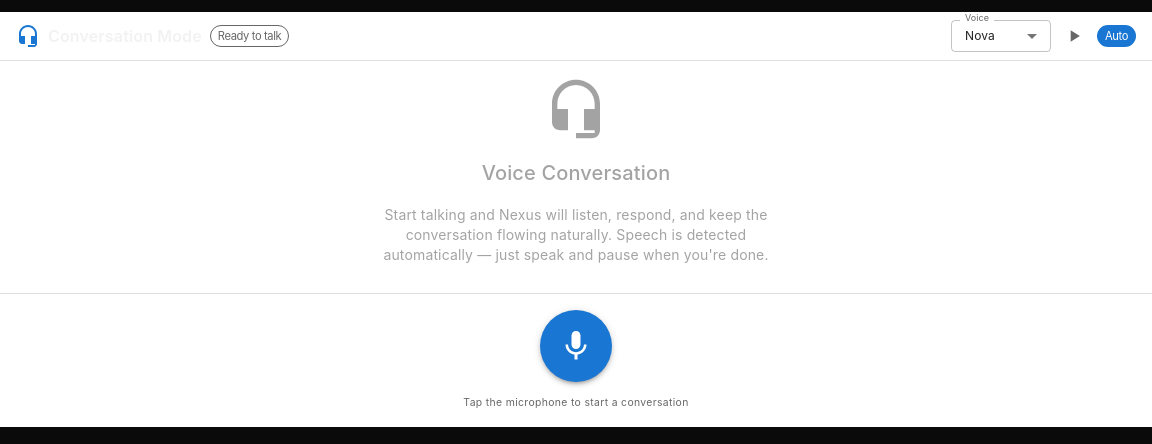
ConversationMode — Interactions › clicking mic button with no mediaDevices shows error
Click the button with test id "MicIcon" at {"x": 576, "y": 346}, box [540, 310, 612, 382]
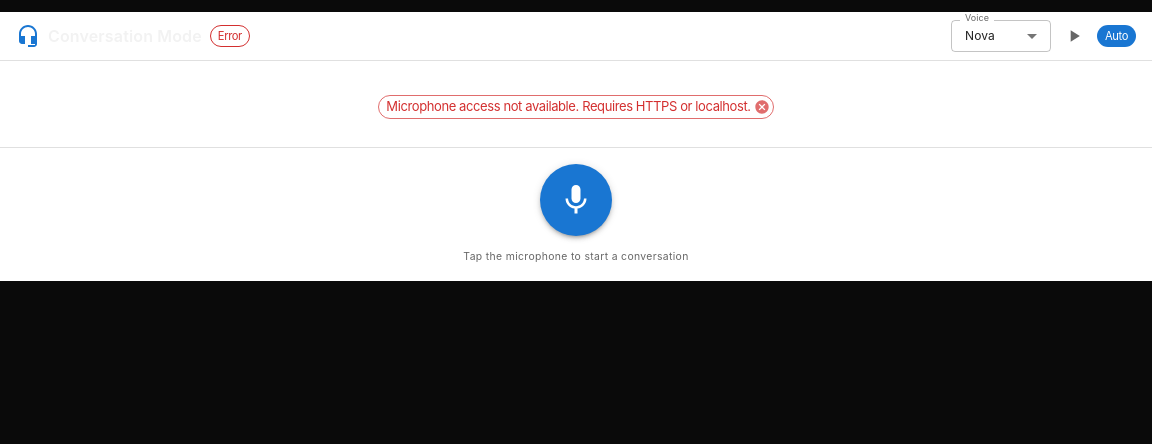
Expected: the text "Microphone access not available" is shown, [386, 98, 751, 114]
